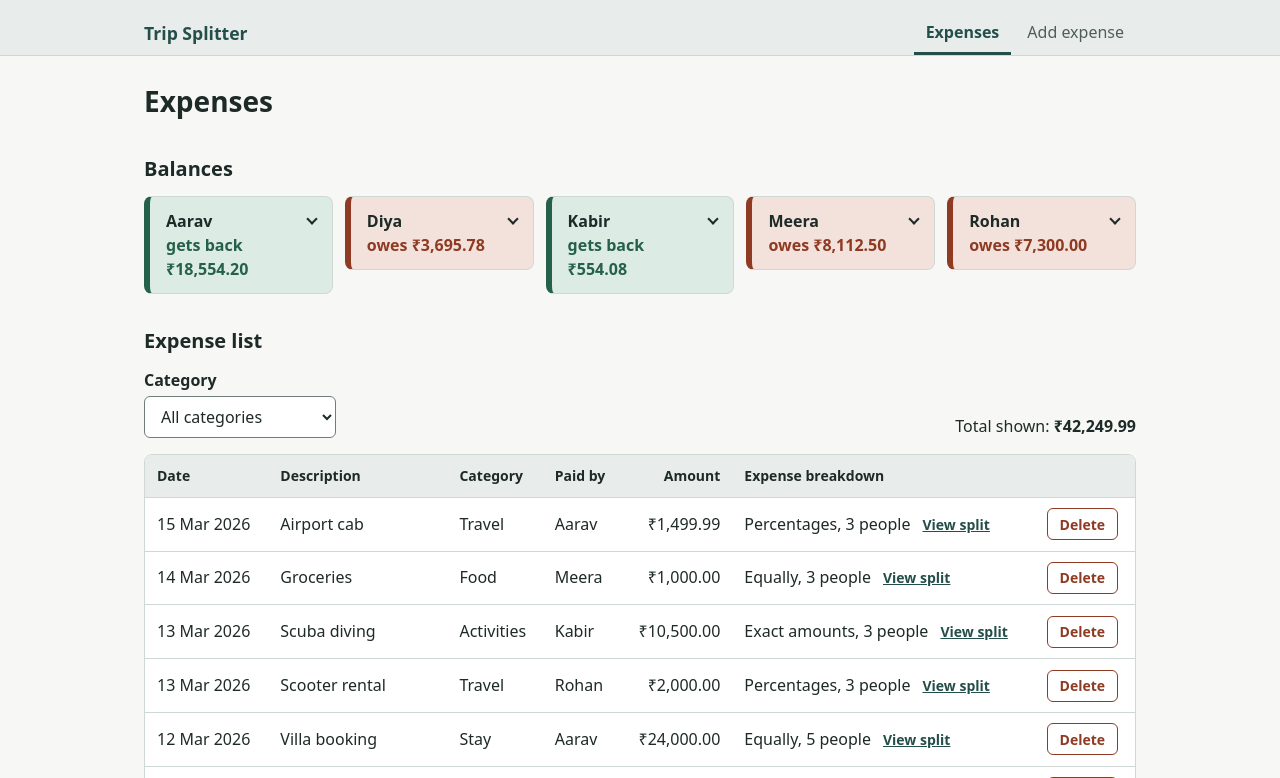
Test: Expenses page › deletes after confirmation and updates balances, total and localStorage at once
The image size is (1280, 778).
Click the button with aria-label "Delete Villa booking": point(1082, 739) [1046,723,1118,755]
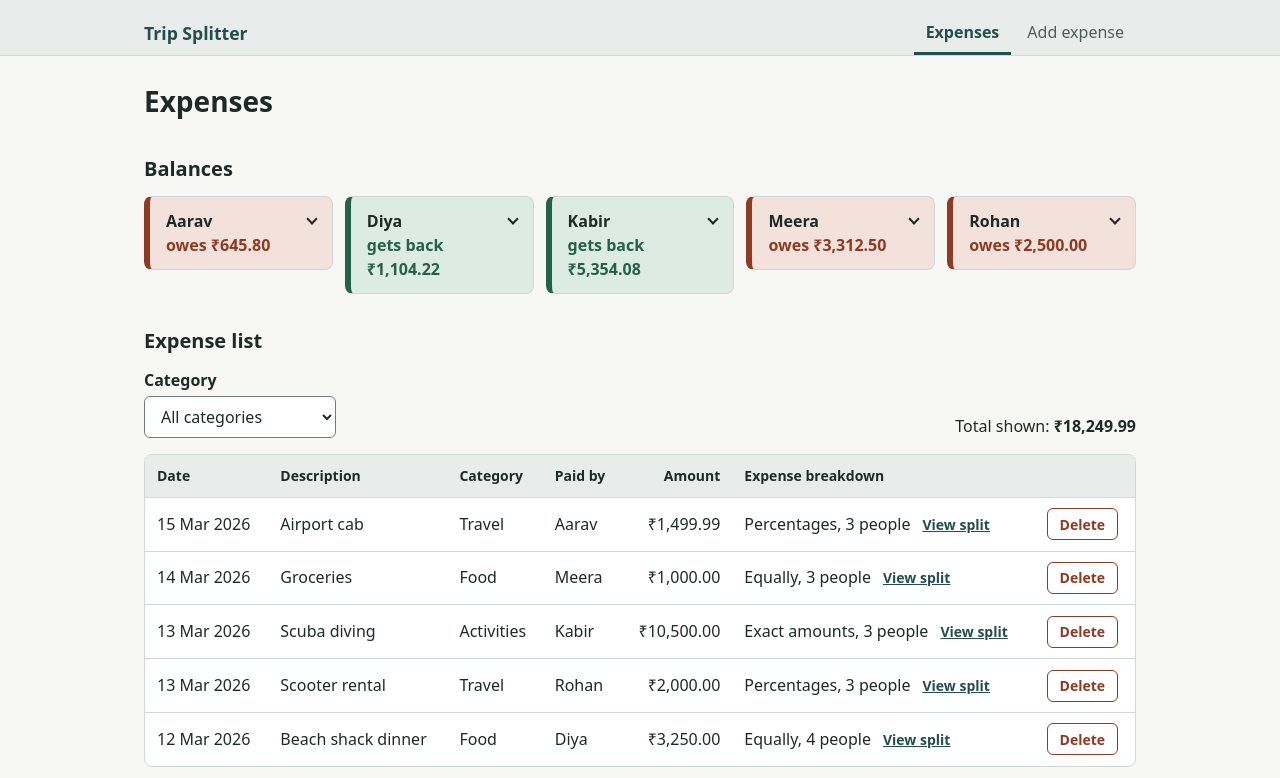
Check: the text "Total shown: ₹18,249.99" is shown, box [955,414,1136,438]
Check: the button "Aarav owes ₹645.80" is shown, box [150,197,332,269]
